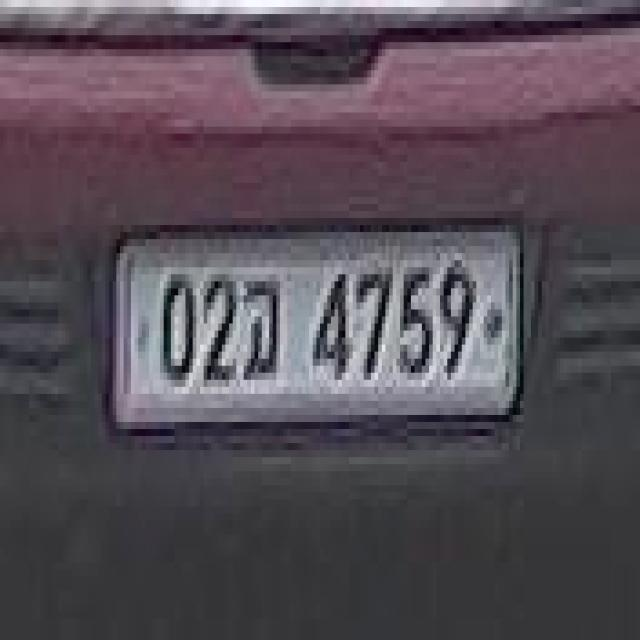illegal_plate: (110, 220, 525, 439)
